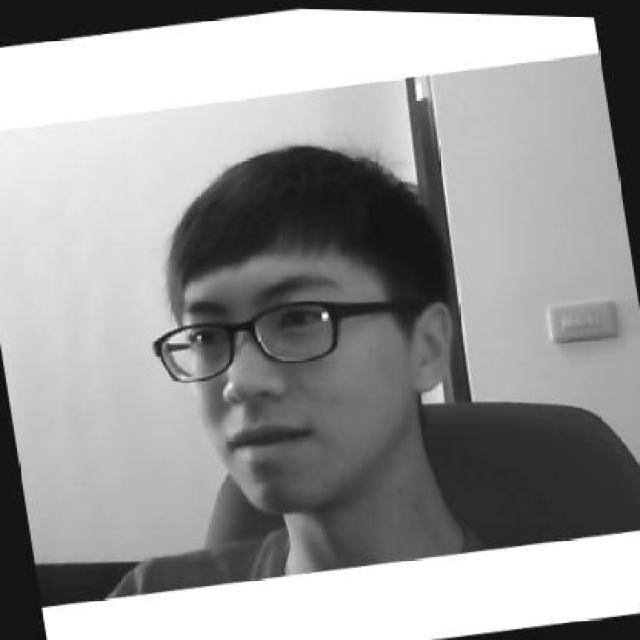attentif: (124, 119, 478, 536)
